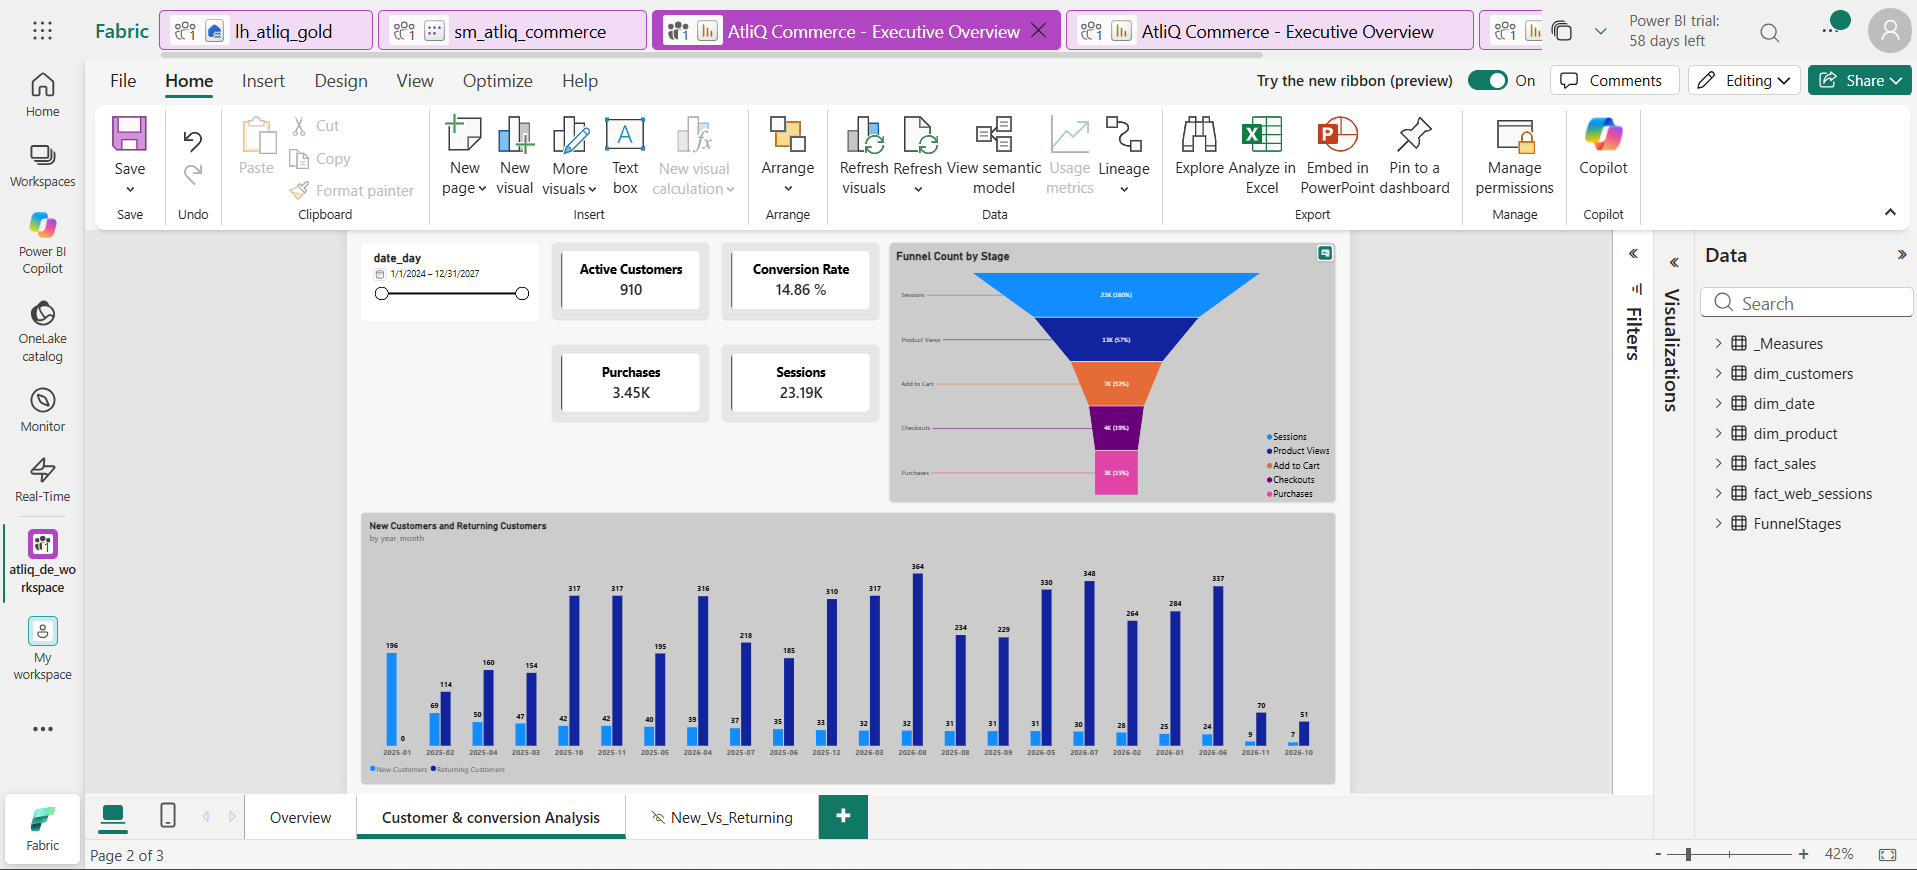

The page's visual inventory and layout, read from the dashboard file:
{"tool":"powerbi","page":{"name":"Customer & conversion Analysis","canvas":[1920,1080],"ordinal":1},"visuals":[{"type":"FunnelChartA96234ADB8D143D1837FEC426BB34781","fields":{"categories":["FunnelStages.Stage"],"measure":["_Measures.Funnel Count"]},"box":[1038.9,23.9,854.5,497.9],"z":0},{"type":"clusteredColumnChart","fields":{"Category":["dim_date.year_month"],"Y":["_Measures.New Customers","_Measures.Returning Customers"]},"box":[26.3,541,1867.1,521.8],"z":1000},{"type":"cardVisual","fields":{"Data":["_Measures.Conversion Rate"]},"box":[718.1,23.9,301.1,146.3],"z":2000},{"type":"cardVisual","fields":{"Data":["_Measures.Active Customers"]},"box":[392.6,23.9,301.1,146.3],"z":3000},{"type":"cardVisual","fields":{"Data":["_Measures.Purchases"]},"box":[392.6,220.2,301.1,146.3],"z":4000},{"type":"cardVisual","fields":{"Data":["_Measures.Sessions"]},"box":[718.1,220.2,301.1,146.3],"z":5000},{"type":"slicer","fields":{"Values":["dim_date.date_day"]},"box":[26.3,23.9,342.3,153.2],"z":6000}]}

Visuals, with their boxes on the page's 1920x1080 design canvas (x1, y1, x2, y2). These are canvas units, not pixel positions in the 1917x870 screenshot, which may show the page scaled, cropped or inside an application window:
FunnelChartA96234ADB8D143D1837FEC426BB34781 - FunnelStages.Stage x _Measures.Funnel Count: left=1039, top=24, right=1893, bottom=522
clusteredColumnChart - dim_date.year_month x _Measures.New Customers: left=26, top=541, right=1893, bottom=1063
cardVisual - _Measures.Conversion Rate: left=718, top=24, right=1019, bottom=170
cardVisual - _Measures.Active Customers: left=393, top=24, right=694, bottom=170
cardVisual - _Measures.Purchases: left=393, top=220, right=694, bottom=366
cardVisual - _Measures.Sessions: left=718, top=220, right=1019, bottom=366
slicer - dim_date.date_day: left=26, top=24, right=369, bottom=177
